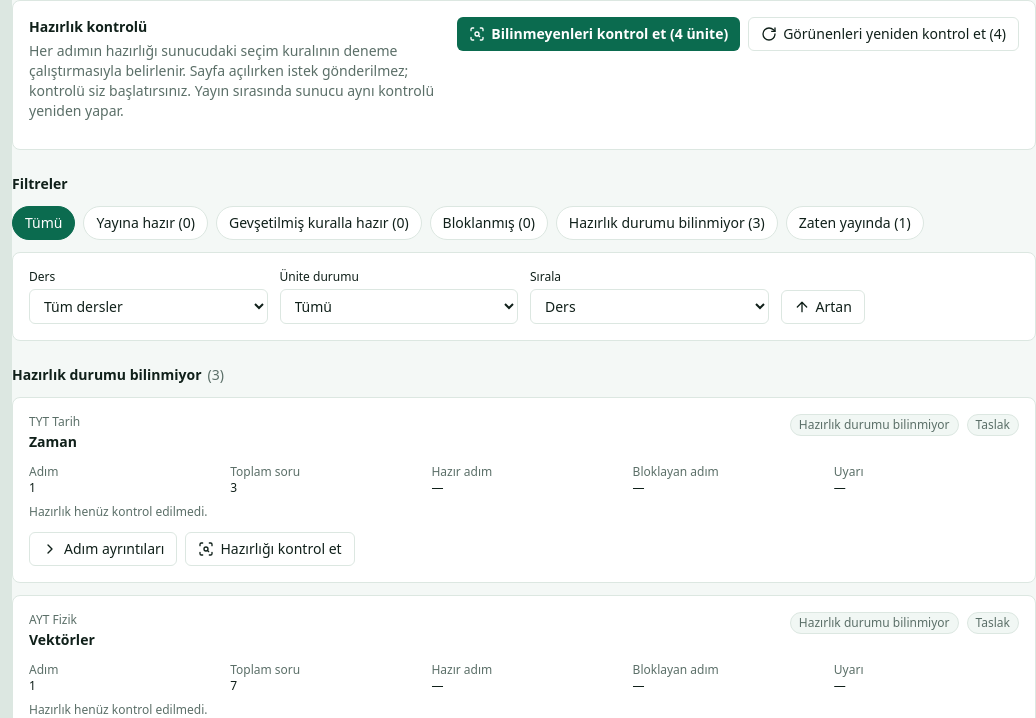
PublishingCenter readiness › reports units whose reads failed
Click the button "Bilinmeyenleri kontrol et (4 ünite)": (599, 34) [457, 17, 740, 51]
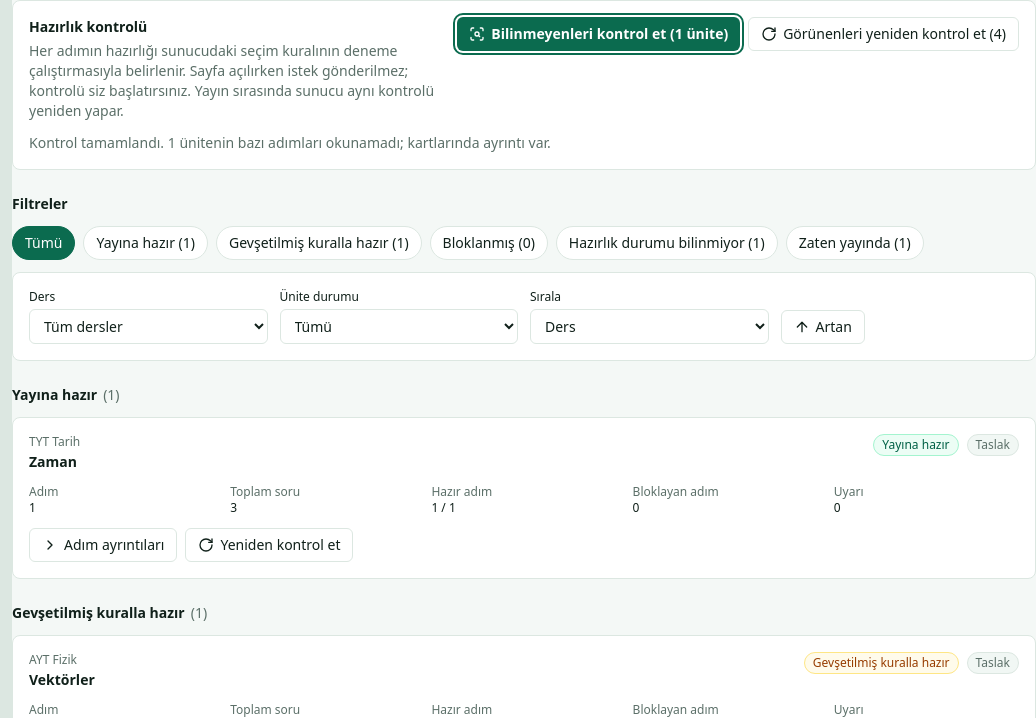
Result: the text "1 ünitenin bazı adımları okunamadı" is shown at [164, 133, 551, 152]
